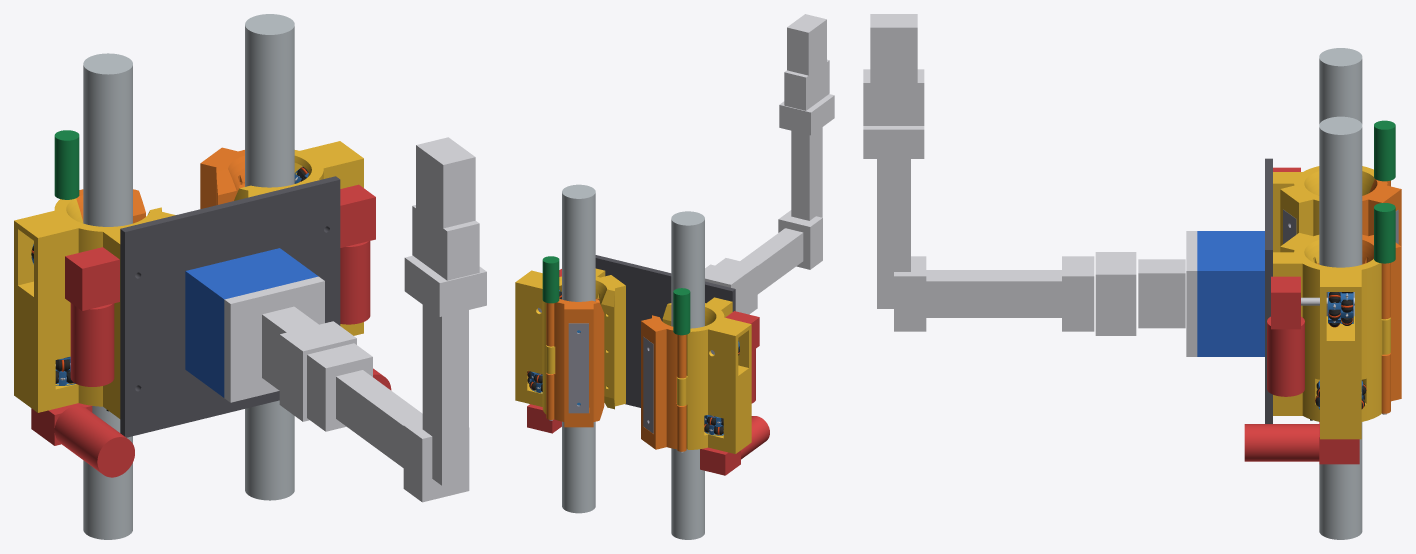
Rendered from cart-assembly-v5.glb.
3 renders of one model, left to right at view 1: azimuth 30°, elevation 25°; view 2: azimuth 150°, elevation 25°; view 3: azimuth 270°, elevation 25°, orthographic. The views are drawn at different scales.
Parts seen in each view (by area): view 1: so101_arm_envelope, base_plate, hand_on_pipe_B_sleeve, track_pipe_C, track_pipe_B, battery, hand_on_pipe_B_roll_motor, hand_on_pipe_B_drive_motor, hand_on_pipe_C_sleeve, hand_on_pipe_B_drive_gearbox, hand_on_pipe_C_drive_motor, hand_on_pipe_C_jaw (+3 smaller); view 2: so101_arm_envelope, hand_on_pipe_B_sleeve, hand_on_pipe_C_sleeve, track_pipe_C, track_pipe_B, hand_on_pipe_C_jaw, base_plate, hand_on_pipe_B_jaw, hand_on_pipe_C_p60_cap, hand_on_pipe_B_p60_cap, hand_on_pipe_B_roll_gearbox, hand_on_pipe_C_roll_gearbox (+4 smaller); view 3: so101_arm_envelope, hand_on_pipe_C_sleeve, track_pipe_C, battery, hand_on_pipe_B_sleeve, hand_on_pipe_C_jaw, track_pipe_B, hand_on_pipe_C_roll_motor, hand_on_pipe_C_drive_motor, hand_on_pipe_C_drive_gearbox, base_plate, hand_on_pipe_B_jaw (+3 smaller).
Boxes of the visible parts, x1=… form: so101_arm_envelope: x1=224, y1=137, x2=486, y2=502; base_plate: x1=120, y1=176, x2=340, y2=437; hand_on_pipe_B_sleeve: x1=14, y1=198, x2=175, y2=418; track_pipe_C: x1=245, y1=14, x2=294, y2=500; track_pipe_B: x1=83, y1=53, x2=132, y2=539; battery: x1=185, y1=248, x2=318, y2=397; hand_on_pipe_B_roll_motor: x1=54, y1=405, x2=134, y2=477; hand_on_pipe_B_drive_motor: x1=70, y1=303, x2=114, y2=386; hand_on_pipe_C_sleeve: x1=234, y1=141, x2=363, y2=335; hand_on_pipe_B_drive_gearbox: x1=65, y1=247, x2=119, y2=310; hand_on_pipe_C_drive_motor: x1=340, y1=241, x2=370, y2=324; hand_on_pipe_C_jaw: x1=200, y1=147, x2=244, y2=208; so101_arm_envelope: x1=705, y1=14, x2=834, y2=314; hand_on_pipe_B_sleeve: x1=662, y1=297, x2=751, y2=453; hand_on_pipe_C_sleeve: x1=515, y1=268, x2=625, y2=414; track_pipe_C: x1=562, y1=184, x2=595, y2=513; track_pipe_B: x1=671, y1=211, x2=704, y2=539; hand_on_pipe_C_jaw: x1=546, y1=298, x2=604, y2=427; base_plate: x1=595, y1=255, x2=735, y2=407; hand_on_pipe_B_jaw: x1=641, y1=315, x2=686, y2=451; hand_on_pipe_C_p60_cap: x1=568, y1=323, x2=588, y2=413; hand_on_pipe_B_p60_cap: x1=643, y1=337, x2=653, y2=433; hand_on_pipe_B_roll_gearbox: x1=700, y1=447, x2=740, y2=475; hand_on_pipe_C_roll_gearbox: x1=527, y1=404, x2=561, y2=433; so101_arm_envelope: x1=863, y1=14, x2=1197, y2=356; hand_on_pipe_C_sleeve: x1=1273, y1=233, x2=1390, y2=439; track_pipe_C: x1=1319, y1=116, x2=1362, y2=539; battery: x1=1197, y1=231, x2=1264, y2=356; hand_on_pipe_B_sleeve: x1=1273, y1=166, x2=1374, y2=252; hand_on_pipe_C_jaw: x1=1362, y1=234, x2=1401, y2=413; track_pipe_B: x1=1319, y1=48, x2=1362, y2=123; hand_on_pipe_C_roll_motor: x1=1244, y1=424, x2=1319, y2=461; hand_on_pipe_C_drive_motor: x1=1267, y1=316, x2=1304, y2=396; hand_on_pipe_C_drive_gearbox: x1=1271, y1=276, x2=1300, y2=329; base_plate: x1=1265, y1=158, x2=1272, y2=423; hand_on_pipe_B_jaw: x1=1362, y1=179, x2=1401, y2=246.
Bounding box in the file's own units: 242 × 388 × 397.
